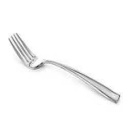Fork: (7, 26, 125, 107)
